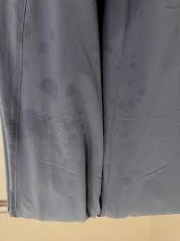oil: (106, 89, 148, 109), (33, 75, 60, 102), (126, 50, 144, 74), (32, 41, 52, 60), (121, 75, 139, 90)
